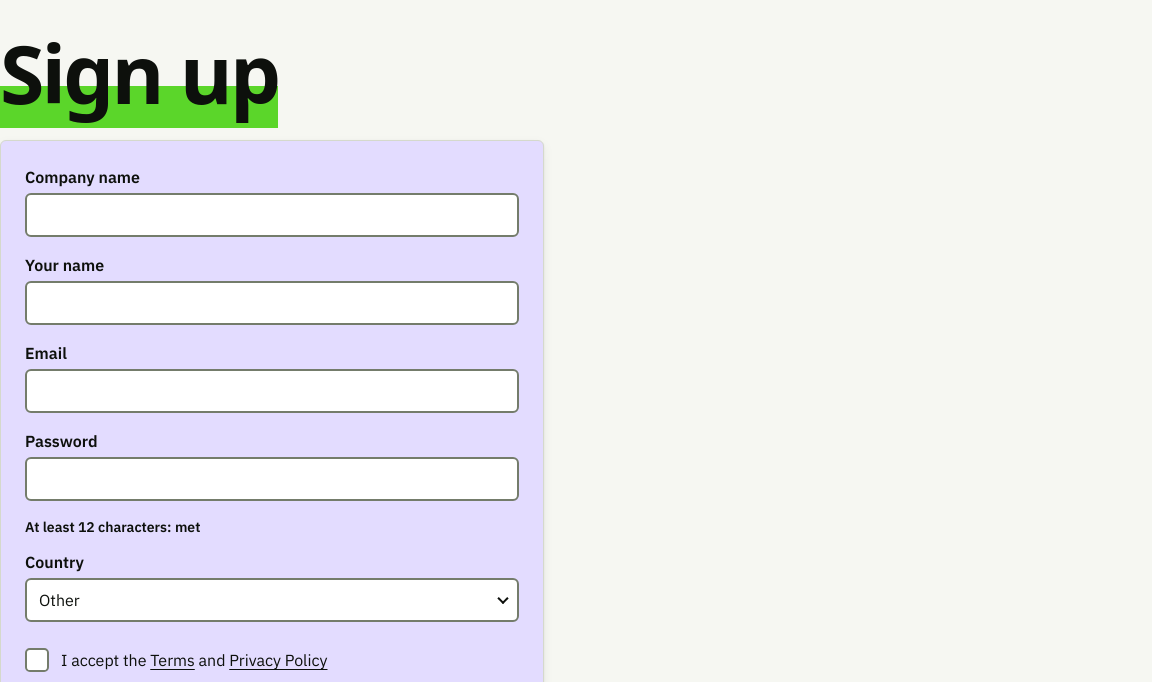
Scenario: submitting › shows the neutral message in a popup after a successful sign up
Type "Fake Test Ltd" into the field labelled "Company name" at (272, 215), box top-left (25, 193), bottom-right (519, 237)
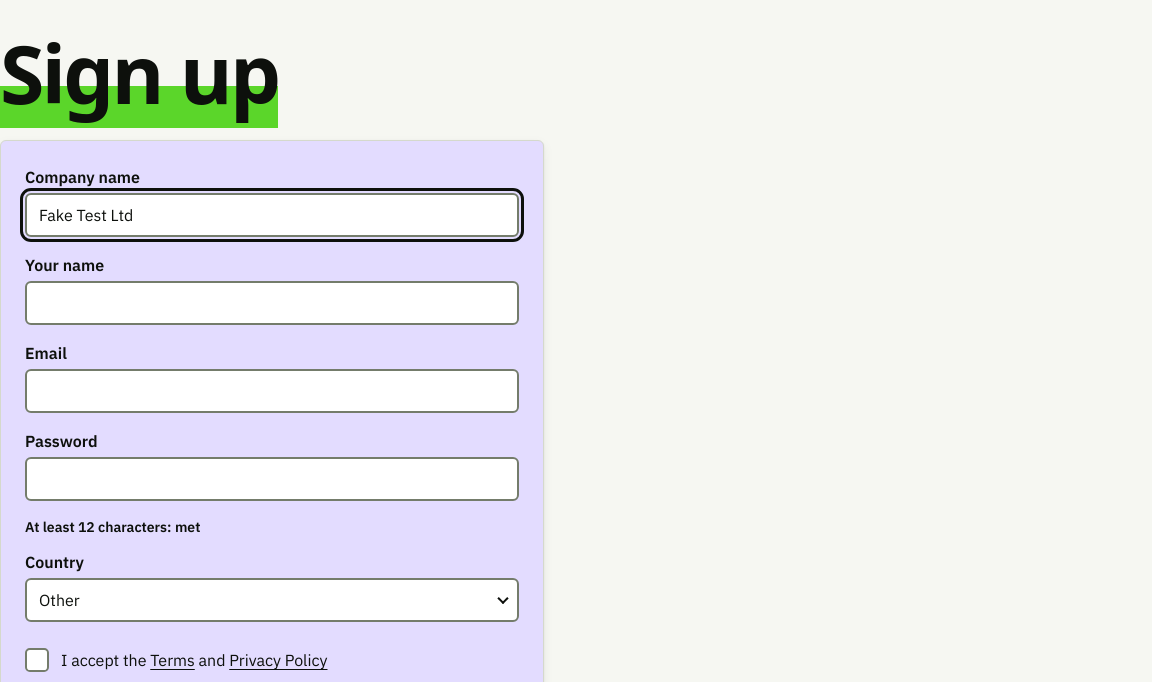
Type "Fake Owner" into the field labelled "Your name" at (272, 303), box top-left (25, 281), bottom-right (519, 325)
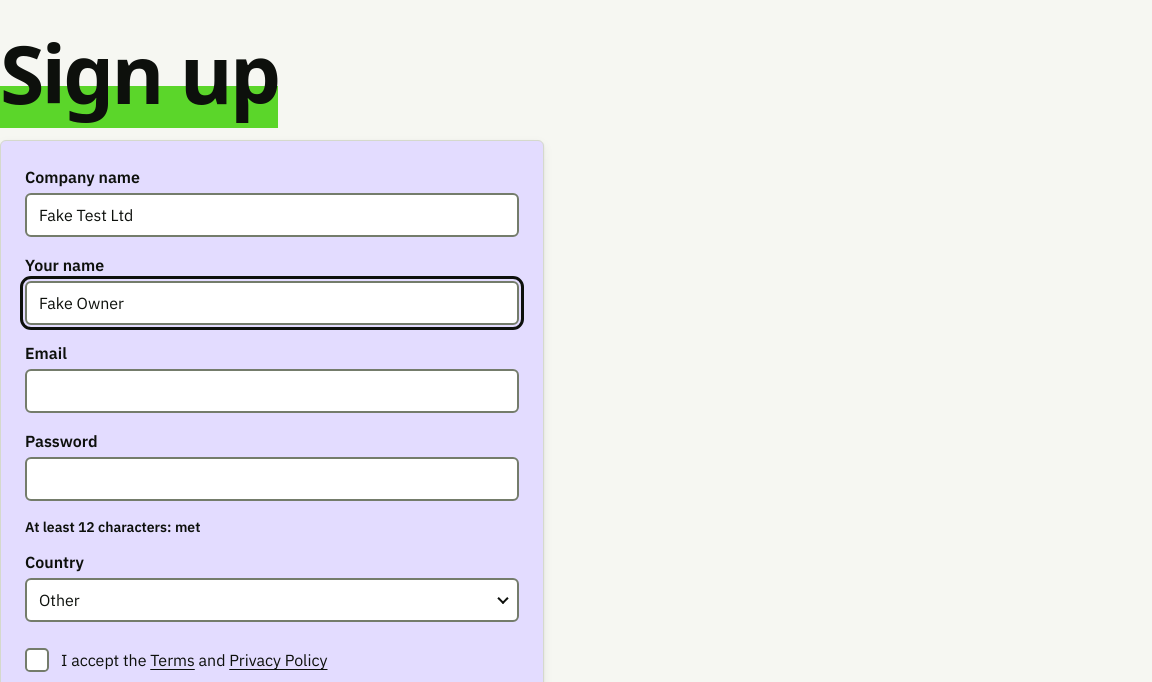
Type "owner@example.test" into the field labelled "Email" at (272, 391), box top-left (25, 369), bottom-right (519, 413)
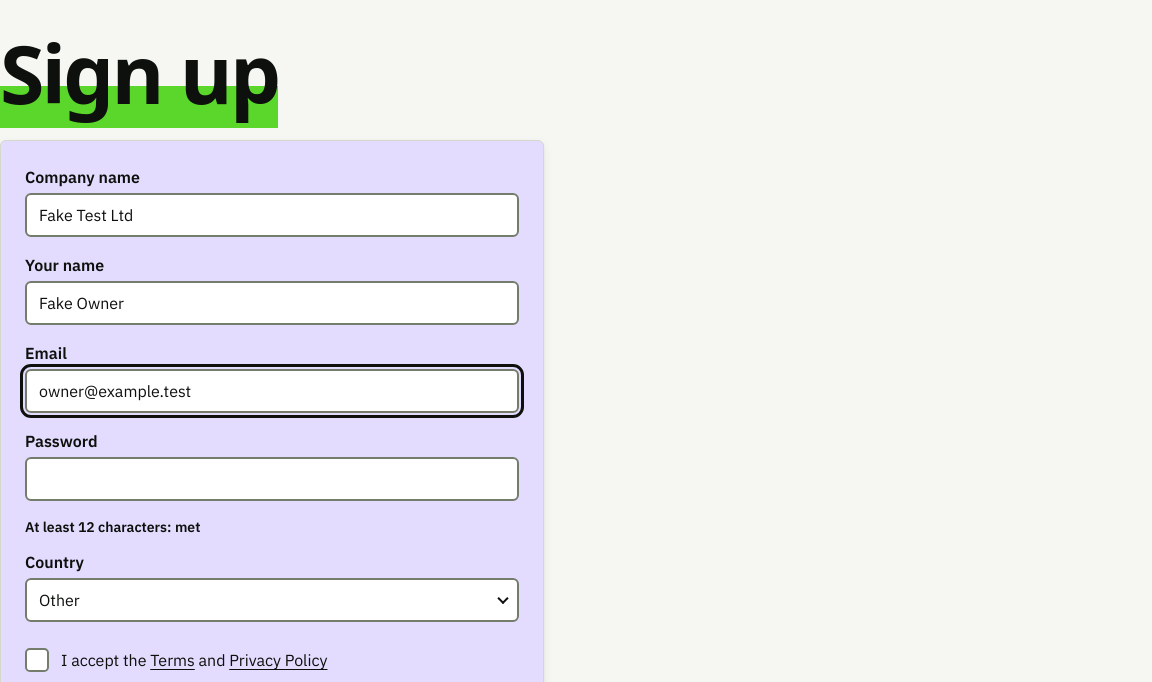
Type "violet-harbour-lantern-92" into the password field labelled "Password" at (272, 479), box top-left (25, 457), bottom-right (519, 501)
(page scrolled)
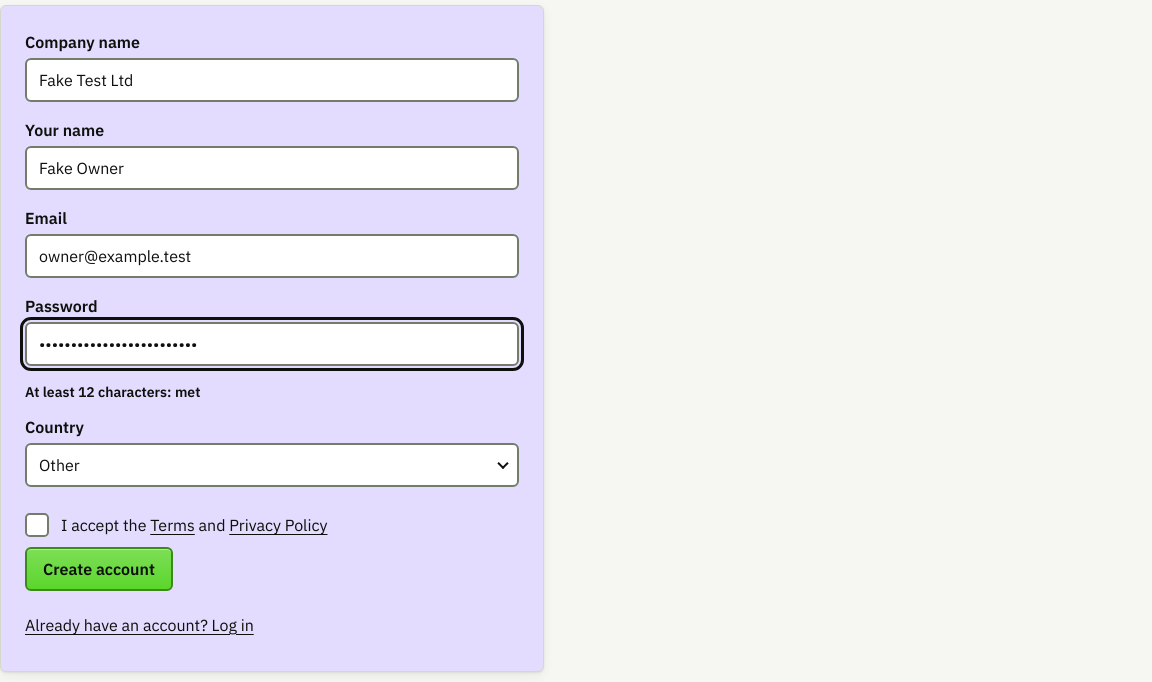
Click the button "Create account" at (99, 569), box top-left (25, 547), bottom-right (173, 591)
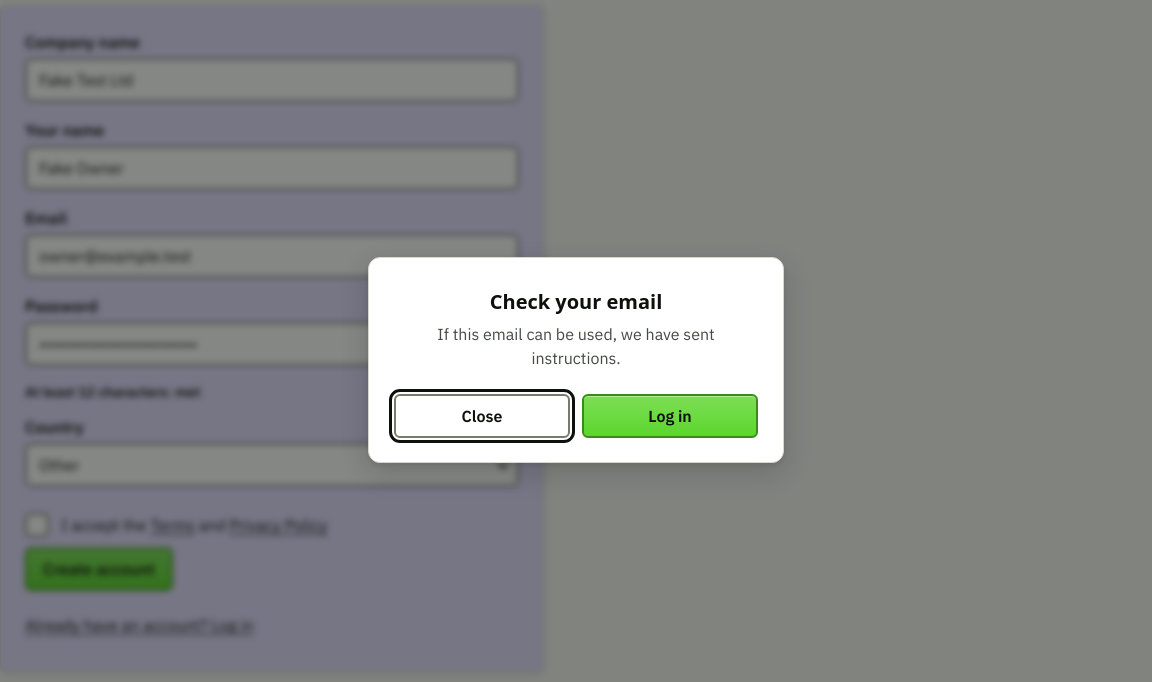
Expected: the text "If this email can be used, we have sent instructions." is shown, top-left (437, 324), bottom-right (715, 368)
Click the button "Close" at (482, 416), box top-left (394, 394), bottom-right (570, 438)
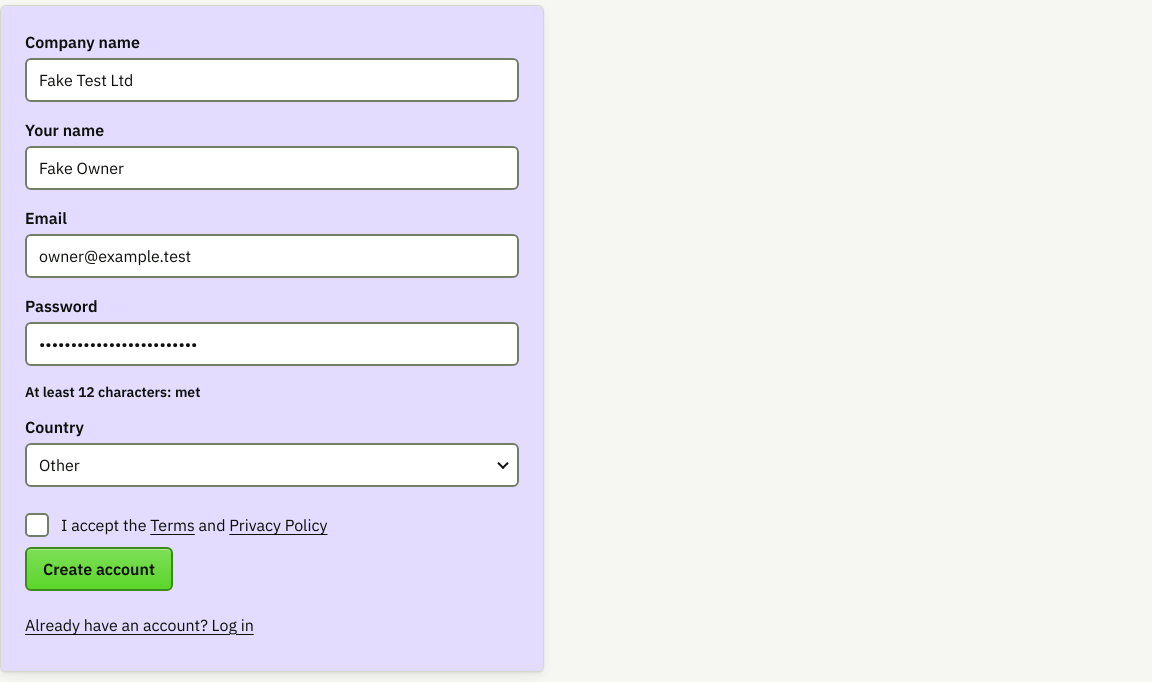
Expected: the dialog is gone
